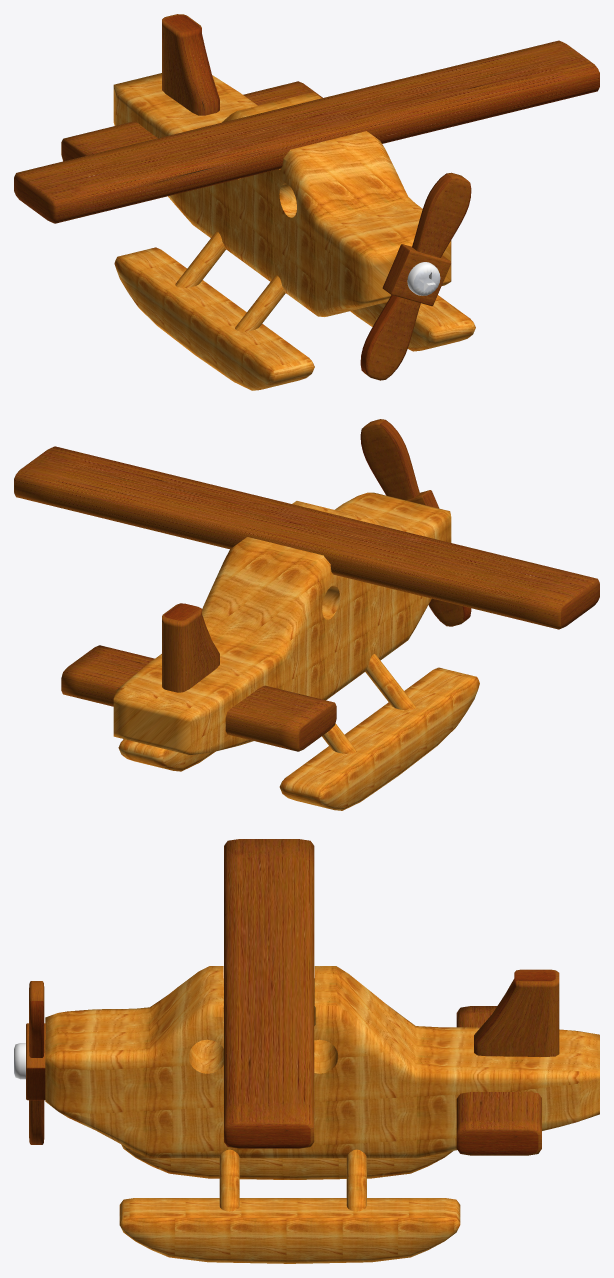
Rendered from spt_obj.obj.
3 renders of one model, top to bottom at view 1: azimuth 30°, elevation 25°; view 2: azimuth 150°, elevation 25°; view 3: azimuth 270°, elevation 25°, orthographic. The views are drawn at different scales.
Visible parts, largest first — view 1: pCube3, polySurface3, polySurface6 polySurface5, pCube6, group1 pCube9, group1 pCube8, pCube4, polySurface5 polySurface9, pCube7 group1, polySurface5 polySurface7, polySurface5 polySurface8, group1 polySurface4; view 2: polySurface3, pCube3, polySurface6 polySurface5, pCube4, pCube6, group1 pCube8, polySurface5 polySurface9, polySurface5 polySurface8, group1 pCube9, polySurface5 polySurface7; view 3: polySurface3, pCube3, polySurface5 polySurface9, pCube4, pCube6, polySurface6 polySurface5, polySurface5 polySurface11, polySurface5 polySurface10, group1 pCube8, pCube7 group1, group1 pCube9.
Part boxes in pixels (box(x1,y1,x2,y2)): pCube3: box(14, 40, 599, 223); polySurface3: box(113, 73, 451, 316); polySurface6 polySurface5: box(114, 247, 314, 390); pCube6: box(162, 14, 219, 115); group1 pCube9: box(360, 295, 420, 380); group1 pCube8: box(412, 172, 471, 257); pCube4: box(61, 81, 322, 161); polySurface5 polySurface9: box(350, 295, 475, 351); pCube7 group1: box(382, 244, 451, 306); polySurface5 polySurface7: box(175, 231, 225, 287); polySurface5 polySurface8: box(235, 275, 285, 331); group1 polySurface4: box(407, 262, 440, 295); polySurface3: box(113, 492, 451, 755); pCube3: box(14, 446, 599, 629); polySurface6 polySurface5: box(279, 667, 479, 810); pCube4: box(61, 645, 336, 751); pCube6: box(162, 603, 219, 692); group1 pCube8: box(360, 419, 419, 500); polySurface5 polySurface9: box(118, 739, 215, 771); polySurface5 polySurface8: box(365, 654, 415, 710); group1 pCube9: box(428, 598, 471, 626); polySurface5 polySurface7: box(322, 723, 356, 753); polySurface3: box(45, 966, 599, 1158); pCube3: box(224, 839, 314, 1148); polySurface5 polySurface9: box(119, 1198, 460, 1263); pCube4: box(456, 1006, 541, 1155); pCube6: box(474, 969, 559, 1056); polySurface6 polySurface5: box(121, 1144, 452, 1179); polySurface5 polySurface11: box(219, 1149, 239, 1211); polySurface5 polySurface10: box(346, 1149, 366, 1211); group1 pCube8: box(29, 981, 44, 1057); pCube7 group1: box(26, 1023, 45, 1100); group1 pCube9: box(29, 1100, 44, 1144).
Bounding box in the file's own units: 11.89 × 4.84 × 10.32.
